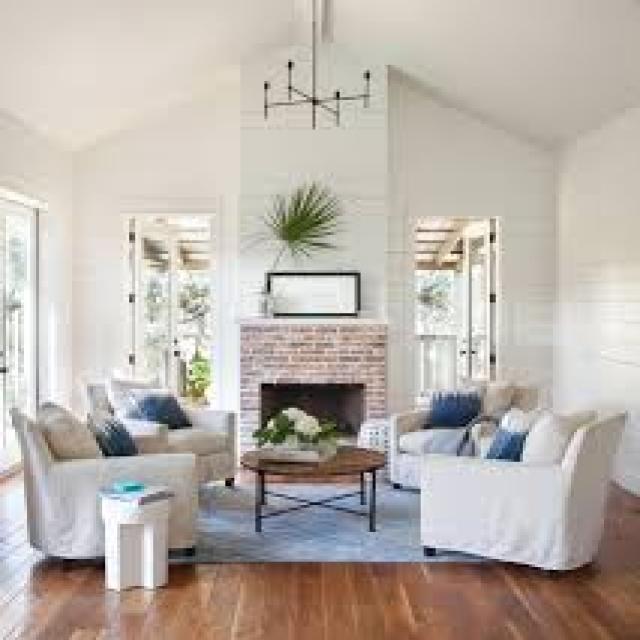Chair: (393, 368, 634, 583), (10, 371, 235, 567)
Lamp: (262, 1, 379, 135)
Table: (246, 436, 381, 534)
